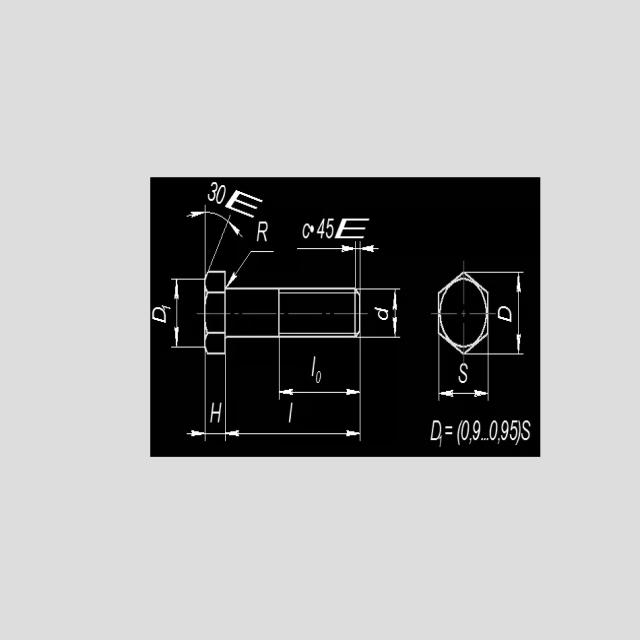marking_line: (187, 356, 363, 443), (277, 338, 365, 402), (296, 242, 381, 287), (187, 205, 244, 270), (489, 271, 524, 355), (437, 355, 490, 401), (171, 278, 204, 350), (361, 288, 401, 340), (227, 248, 274, 287)
numeric: (226, 189, 264, 218), (335, 218, 369, 239), (496, 304, 513, 323), (257, 220, 270, 242), (210, 400, 222, 423), (153, 305, 167, 324), (208, 181, 219, 203), (374, 305, 389, 321), (458, 360, 468, 384), (430, 420, 441, 441), (286, 402, 296, 424), (521, 419, 531, 440), (317, 218, 327, 238), (461, 419, 470, 441), (472, 419, 481, 441), (500, 419, 509, 441), (216, 183, 225, 204), (325, 217, 334, 238), (489, 420, 498, 441), (309, 355, 317, 378), (510, 419, 518, 441), (302, 221, 311, 239), (316, 372, 322, 385), (163, 303, 172, 310), (439, 435, 442, 448)
special_symbol: (457, 419, 463, 445), (516, 420, 522, 445), (445, 424, 453, 437), (310, 224, 314, 233)
